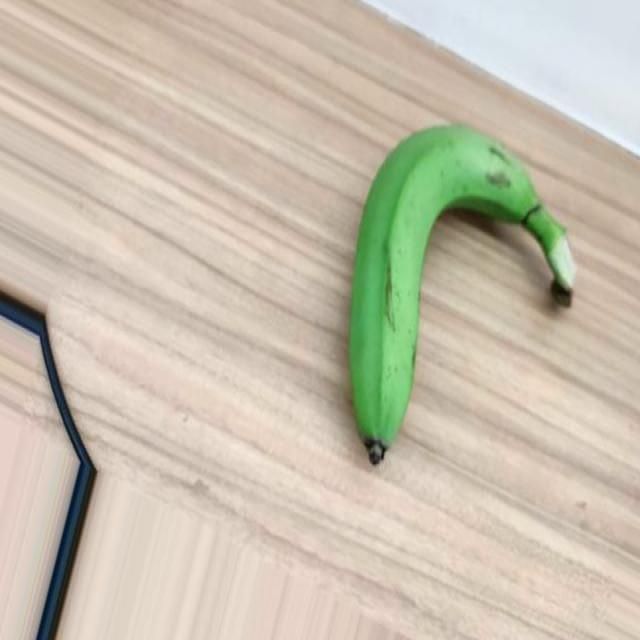Unripe: (349, 123, 577, 466)
